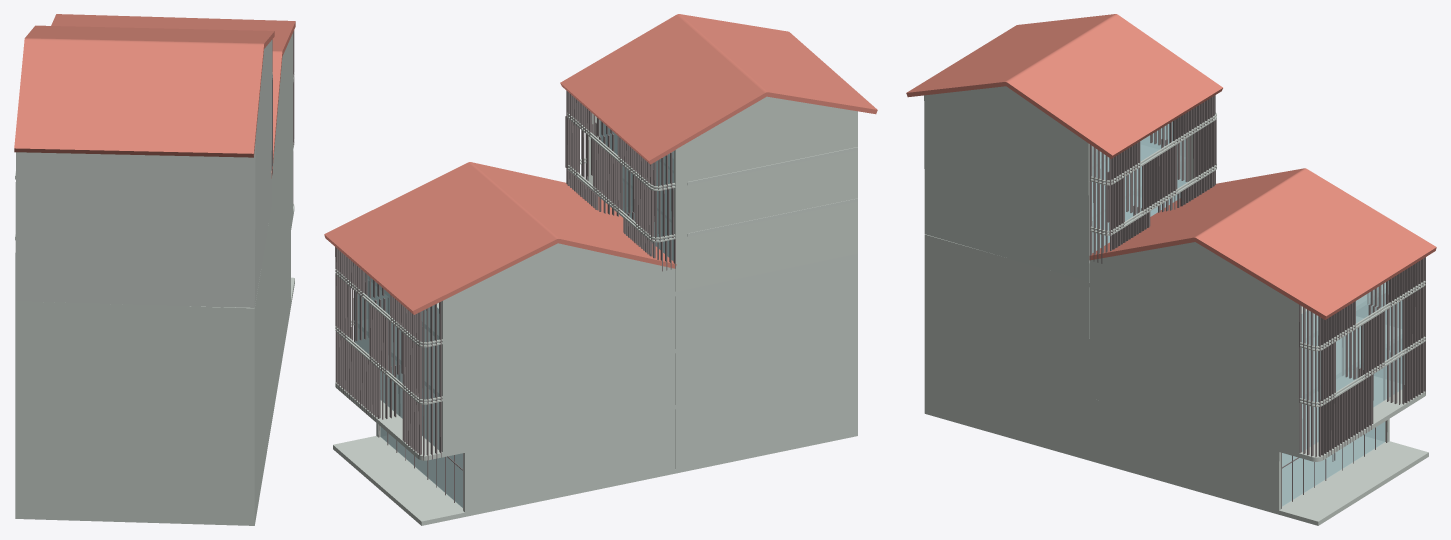
3 renders of one model, left to right at view 1: azimuth 30°, elevation 25°; view 2: azimuth 150°, elevation 25°; view 3: azimuth 270°, elevation 25°, orthographic. The views are drawn at different scales.
Parts seen in each view (by area): view 1: Object.1197, Object.1192, Object.1473, Object.1196, Object.1205, Object.1549, Object.1194, Object.1200, Object.1204, Object.1199, Object.1202, Object.1195 (+2 smaller); view 2: Object.1206, Object.1195, Object.1192, Object.1549, Object.1473, Object.1201, Object.1548, Object.1488, Object.1202, Object.1204, Object.1203, Object.1489 (+7 smaller); view 3: Object.1205, Object.1196, Object.1192, Object.1549, Object.1473, Object.1200, Object.1548, Object.1488, Object.1489, Object.1193, Object.1203, Object.1202 (+5 smaller).
Boxes of the visible parts, bbox=[...] form: Object.1197: bbox=[20, 305, 249, 520]; Object.1192: bbox=[15, 40, 272, 307]; Object.1473: bbox=[14, 25, 274, 157]; Object.1196: bbox=[250, 218, 271, 520]; Object.1205: bbox=[271, 33, 292, 340]; Object.1549: bbox=[51, 14, 295, 178]; Object.1194: bbox=[15, 207, 271, 319]; Object.1200: bbox=[271, 232, 290, 417]; Object.1204: bbox=[16, 255, 275, 383]; Object.1199: bbox=[15, 509, 256, 525]; Object.1202: bbox=[16, 215, 292, 449]; Object.1195: bbox=[15, 305, 19, 513]; Object.1206: bbox=[441, 243, 675, 457]; Object.1195: bbox=[675, 256, 857, 468]; Object.1192: bbox=[588, 96, 857, 291]; Object.1549: bbox=[324, 162, 676, 314]; Object.1473: bbox=[560, 14, 877, 164]; Object.1201: bbox=[463, 409, 675, 512]; Object.1548: bbox=[333, 432, 857, 525]; Object.1488: bbox=[355, 273, 439, 450]; Object.1202: bbox=[381, 367, 857, 455]; Object.1204: bbox=[358, 315, 842, 400]; Object.1203: bbox=[368, 258, 857, 343]; Object.1489: bbox=[380, 426, 462, 507]; Object.1205: bbox=[1089, 242, 1299, 455]; Object.1196: bbox=[924, 241, 1089, 456]; Object.1192: bbox=[924, 86, 1193, 281]; Object.1549: bbox=[1089, 168, 1436, 319]; Object.1473: bbox=[906, 14, 1222, 158]; Object.1200: bbox=[1089, 398, 1281, 510]; Object.1548: bbox=[925, 410, 1428, 525]; Object.1488: bbox=[1301, 281, 1404, 451]; Object.1489: bbox=[1282, 421, 1385, 506]; Object.1193: bbox=[1092, 121, 1187, 252]; Object.1203: bbox=[924, 236, 1385, 346]; Object.1202: bbox=[924, 347, 1401, 457].
Bounding box in the file's own units: 2.46 × 2.16 × 2.92.
